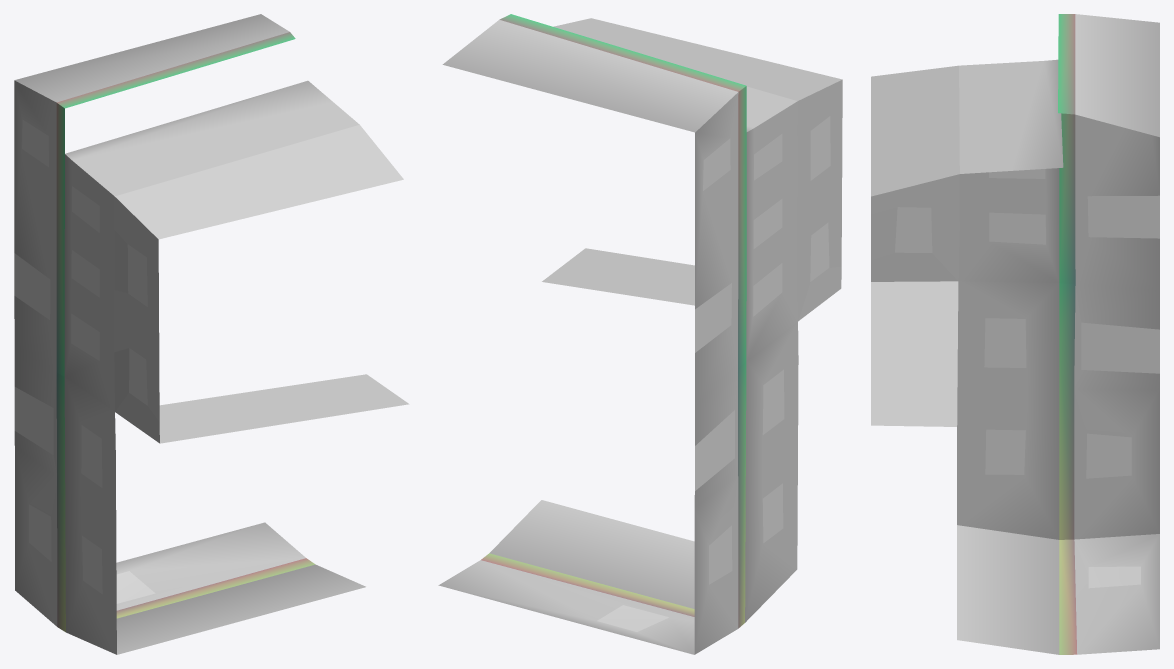
The model's file is Village_ClusterLowA.glb.
3 views of the same model, side by side, from view 1: azimuth 30°, elevation 25°; view 2: azimuth 150°, elevation 25°; view 3: azimuth 270°, elevation 25° (orthographic). The views are drawn at different scales.
Visible parts, largest first — view 1: MeshNode_2, MeshNode_1, MeshNode_0; view 2: MeshNode_2, MeshNode_1, MeshNode_0; view 3: MeshNode_2, MeshNode_1, MeshNode_0.
Boxes of the visible parts, x1=… form: MeshNode_2: x1=14, y1=14, x2=409, y2=654; MeshNode_1: x1=14, y1=120, x2=155, y2=603; MeshNode_0: x1=56, y1=32, x2=315, y2=632; MeshNode_2: x1=438, y1=18, x2=842, y2=654; MeshNode_1: x1=597, y1=116, x2=830, y2=631; MeshNode_0: x1=481, y1=14, x2=746, y2=628; MeshNode_2: x1=871, y1=14, x2=1159, y2=654; MeshNode_1: x1=895, y1=169, x2=1159, y2=588; MeshNode_0: x1=1058, y1=14, x2=1077, y2=654.
Bounding box in the file's own units: 17.32 × 35.45 × 17.22.
